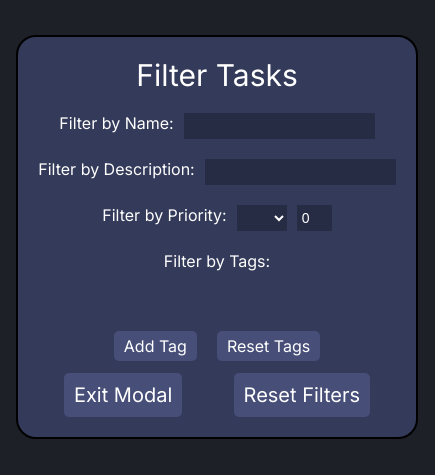
FilterTasksModal › Update the filter tags › Add a new tag
Click the button with test id "add-filter-tag-button" at coordinates (155, 346), box [114, 331, 197, 361]
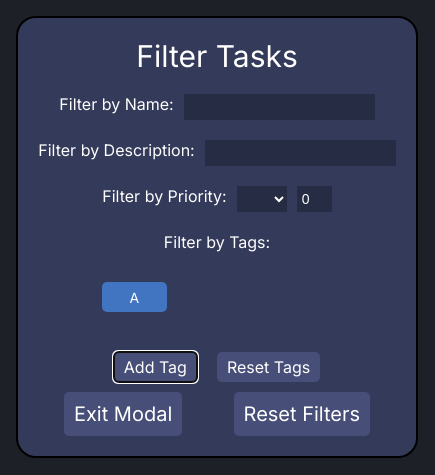
Check: the button "A" is shown, box [102, 282, 167, 312]
